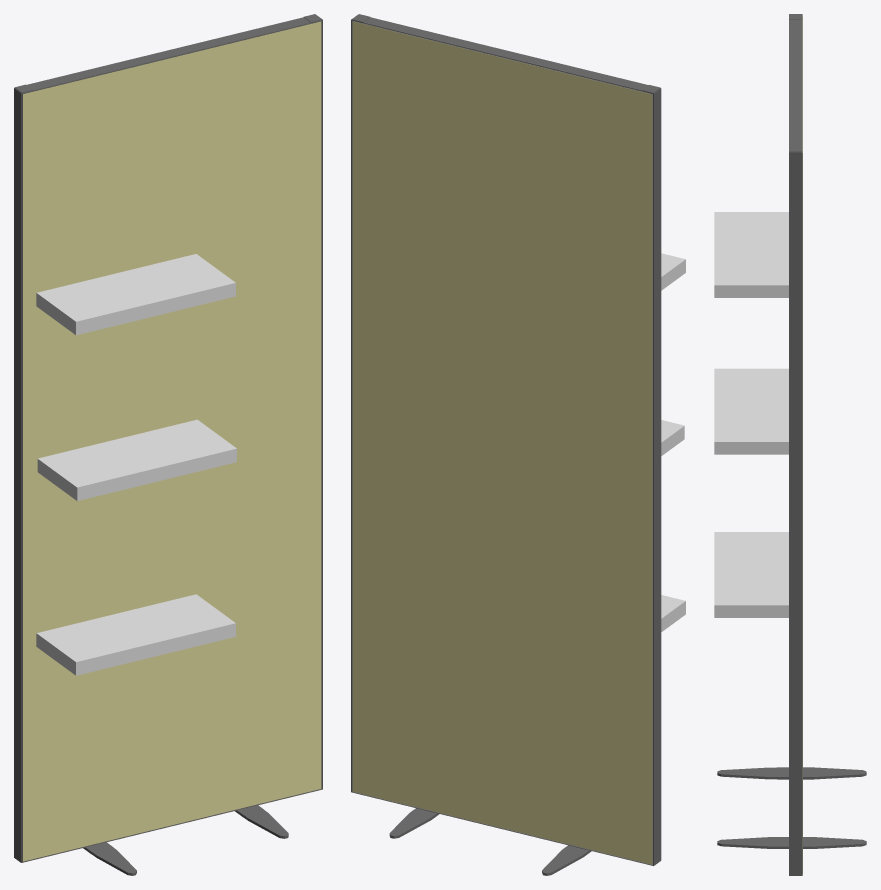
Rendered from Shelves Left.glb.
3 renders of one model, left to right at view 1: azimuth 30°, elevation 25°; view 2: azimuth 150°, elevation 25°; view 3: azimuth 270°, elevation 25°, orthographic. The views are drawn at different scales.
Visible parts, largest first — view 1: Standard 38.027, Cube.005, toggle_feet_center.010; view 2: toggle_back_panel.012, Standard 38.027, Cube.005, toggle_feet_center.010; view 3: Cube.005, Standard 38.027, toggle_feet_center.010, toggle_back_panel.012, toggle_feet_edge.008.
Part boxes in pixels (x1,y1,x2,y2): Standard 38.027: (14,14,322,862); Cube.005: (36,254,236,675); toggle_feet_center.010: (83,805,284,870); toggle_back_panel.012: (352,21,652,864); Standard 38.027: (351,14,661,865); Cube.005: (661,253,685,631); toggle_feet_center.010: (389,808,591,875); Cube.005: (714,212,788,617); Standard 38.027: (789,14,802,875); toggle_feet_center.010: (725,767,866,848); toggle_back_panel.012: (802,16,802,873); toggle_feet_edge.008: (717,767,776,848).
Bounding box in the file's own units: 0.969 × 2.37 × 0.4503.
